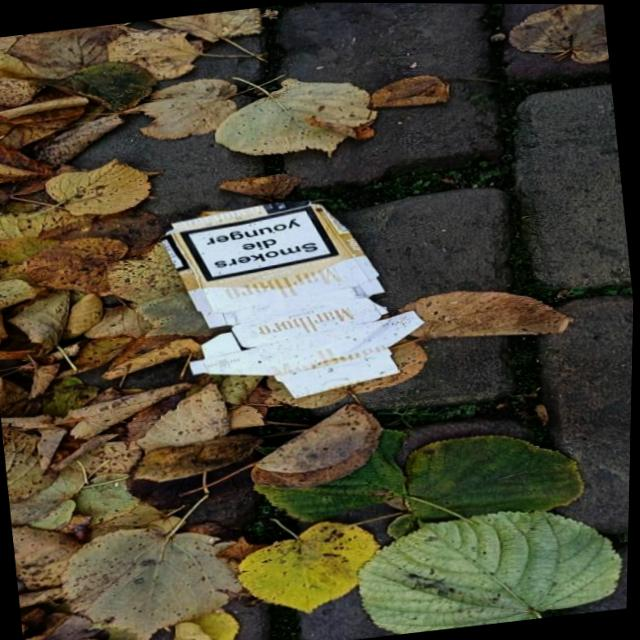Paper: (150, 183, 440, 416)
